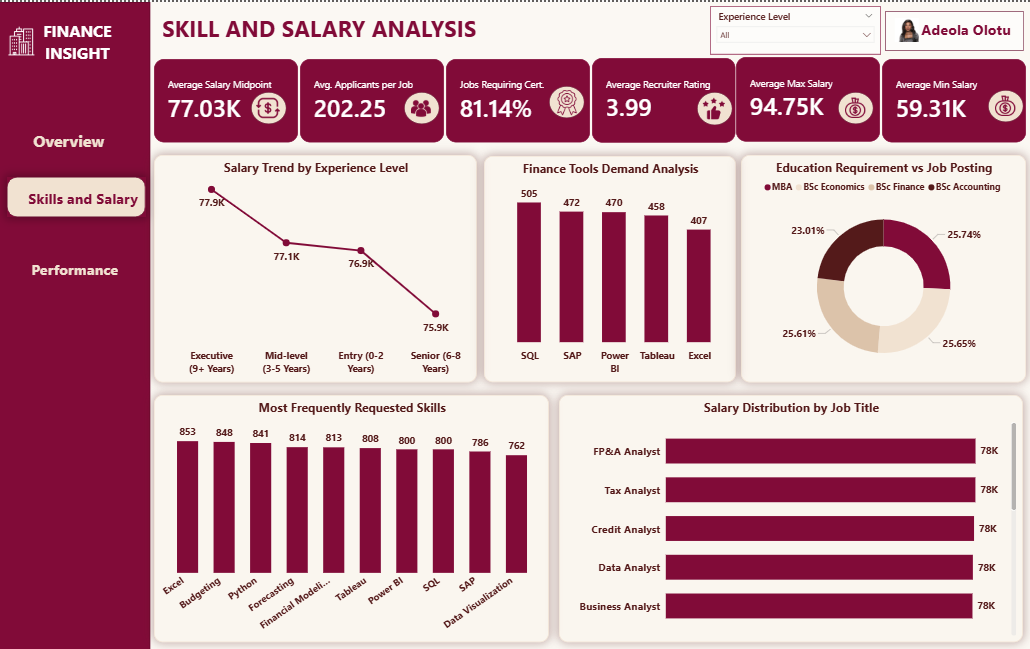

Layout of this report page (visuals, bound fields, positions):
{"tool":"powerbi","page":{"name":"Skill and Salary Analysis","canvas":[1720,1080],"ordinal":3},"visuals":[{"type":"shape","box":[0,0,252,1082],"z":0},{"type":"textbox","box":[175.6,14.1,717.9,67.9],"z":1000},{"type":"slicer","fields":{"Values":["Job details DIM.Experience Level"]},"box":[1185.5,7.4,284.8,81.4],"z":2000},{"type":"cardVisual","fields":{"Data":["Measures (2).Average Salary Midpoint"]},"box":[258.9,94.3,240.4,138.7],"z":3000},{"type":"cardVisual","fields":{"Data":["Measures (2).% Jobs requiring certification"]},"box":[744.9,95.5,240,138.6],"z":4000},{"type":"cardVisual","fields":{"Data":["Measures (2).Average Applicats per Job"]},"box":[502.1,95.1,240,138.6],"z":5000},{"type":"cardVisual","fields":{"Data":["Measures (2).Average Recruiter Rating"]},"box":[987.6,94,238.6,140.6],"z":6000},{"type":"cardVisual","fields":{"Data":["Measures (2).Average Min Salary"]},"box":[1472.2,94.6,240.4,138.7],"z":7000},{"type":"shape","box":[13.7,292.2,230.7,66.6],"z":8000},{"type":"image","box":[8.5,34.2,58.1,59.8],"z":9000},{"type":"textbox","title":"OVERVIEW","box":[32.5,189.7,169.2,66.6],"z":10000},{"type":"textbox","title":"OVERVIEW","box":[29.1,288.8,223.9,66.6],"z":11000},{"type":"textbox","title":"OVERVIEW","box":[18,406,216,66],"z":12000},{"type":"cardVisual","fields":{"Data":["Measures (2).Average Max Salary"]},"box":[1229,92.5,240.4,140.6],"z":13000},{"type":"areaChart","title":"Salary Trend by Experience Level","fields":{"Category":["Recruitment.Experience Band"],"Y":["Measures (2).Average Salary MId point"]},"box":[258.9,255.2,538.2,379.1],"z":14000},{"type":"columnChart","title":"Finance Tools Demand Analysis","fields":{"Category":["Job details DIM.Finance Tool Required"],"Y":["Measures (2).Total Jobs"]},"box":[808.2,257.1,419.8,377.3],"z":15000},{"type":"donutChart","title":"Education Requirement vs Job Posting","fields":{"Category":["Job details DIM.Education Requirement"],"Y":["Measures (2).Total Jobs"]},"box":[1237.3,255.2,475.3,379.1],"z":16000},{"type":"columnChart","title":"Most Frequently Requested Skills","fields":{"Y":["Measures (2).Skill Frequency"],"Category":["Skills DIM.Required Skills"]},"box":[258.9,654.7,658.4,412.4],"z":17000},{"type":"barChart","title":"Salary Distribution by Job Title","fields":{"Category":["Job details DIM.Job Title"],"Y":["Measures (2).Average Salary Midpoint"]},"box":[934,654.7,773.1,412.4],"z":18000},{"type":"textbox","box":[34.2,25.6,191.4,88.9],"z":19000},{"type":"textbox","title":"OVERVIEW","box":[42.5,199.7,169.2,66.6],"z":20000},{"type":"shape","box":[419.8,149.8,59.2,53.6],"z":21000},{"type":"image","box":[423.5,146.1,49.9,59.2],"z":22000},{"type":"shape","box":[675.1,149.8,59.2,53.6],"z":23000},{"type":"image","box":[682.5,155.4,42.5,44.4],"z":24000},{"type":"shape","box":[917.3,140.6,59.2,53.6],"z":25000},{"type":"image","box":[917.3,142.4,59.2,51.8],"z":26000},{"type":"shape","box":[1163.3,149.8,59.2,55.5],"z":27000},{"type":"image","box":[1163.3,151.7,55.5,51.8],"z":28000},{"type":"shape","box":[1398.2,149.8,59.2,53.6],"z":29000},{"type":"shape","box":[1647.9,146.1,59.2,53.6],"z":30000},{"type":"image","box":[1405.6,153.5,44.4,46.2],"z":31000},{"type":"image","box":[1655.3,149.8,44.4,46.2],"z":32000},{"type":"shape","box":[1475.9,14.8,231.2,66.6],"z":32500},{"type":"textbox","title":"OVERVIEW","box":[1525.8,24,173.8,49.9],"z":33000},{"type":"image","box":[1479.6,22.2,66.6,49.9],"z":35000}]}

Visuals, with their boxes in screenshot pixels (x1, y1, x2, y2), scaled from the page's 1720x1080 canvas onto the 1030x649 screenshot:
shape: locate(0, 0, 151, 648)
textbox: locate(105, 8, 535, 49)
slicer - Job details DIM.Experience Level: locate(710, 4, 880, 53)
cardVisual - Measures (2).Average Salary Midpoint: locate(155, 57, 299, 140)
cardVisual - Measures (2).% Jobs requiring certification: locate(446, 57, 590, 141)
cardVisual - Measures (2).Average Applicats per Job: locate(301, 57, 444, 140)
cardVisual - Measures (2).Average Recruiter Rating: locate(591, 56, 734, 141)
cardVisual - Measures (2).Average Min Salary: locate(882, 57, 1026, 140)
shape: locate(8, 176, 146, 216)
image: locate(5, 21, 40, 56)
"OVERVIEW" textbox: locate(19, 114, 121, 154)
"OVERVIEW" textbox: locate(17, 174, 152, 214)
"OVERVIEW" textbox: locate(11, 244, 140, 284)
cardVisual - Measures (2).Average Max Salary: locate(736, 56, 880, 140)
"Salary Trend by Experience Level" areaChart: locate(155, 153, 477, 381)
"Finance Tools Demand Analysis" columnChart: locate(484, 154, 735, 381)
"Education Requirement vs Job Posting" donutChart: locate(741, 153, 1026, 381)
"Most Frequently Requested Skills" columnChart: locate(155, 393, 549, 641)
"Salary Distribution by Job Title" barChart: locate(559, 393, 1022, 641)
textbox: locate(20, 15, 135, 69)
"OVERVIEW" textbox: locate(25, 120, 127, 160)
shape: locate(251, 90, 287, 122)
image: locate(254, 88, 283, 123)
shape: locate(404, 90, 440, 122)
image: locate(409, 93, 434, 120)
shape: locate(549, 84, 585, 117)
image: locate(549, 86, 585, 117)
shape: locate(697, 90, 732, 123)
image: locate(697, 91, 730, 122)
shape: locate(837, 90, 873, 122)
shape: locate(987, 88, 1022, 120)
image: locate(842, 92, 868, 120)
image: locate(991, 90, 1018, 118)
shape: locate(884, 9, 1022, 49)
"OVERVIEW" textbox: locate(914, 14, 1018, 44)
image: locate(886, 13, 926, 43)
